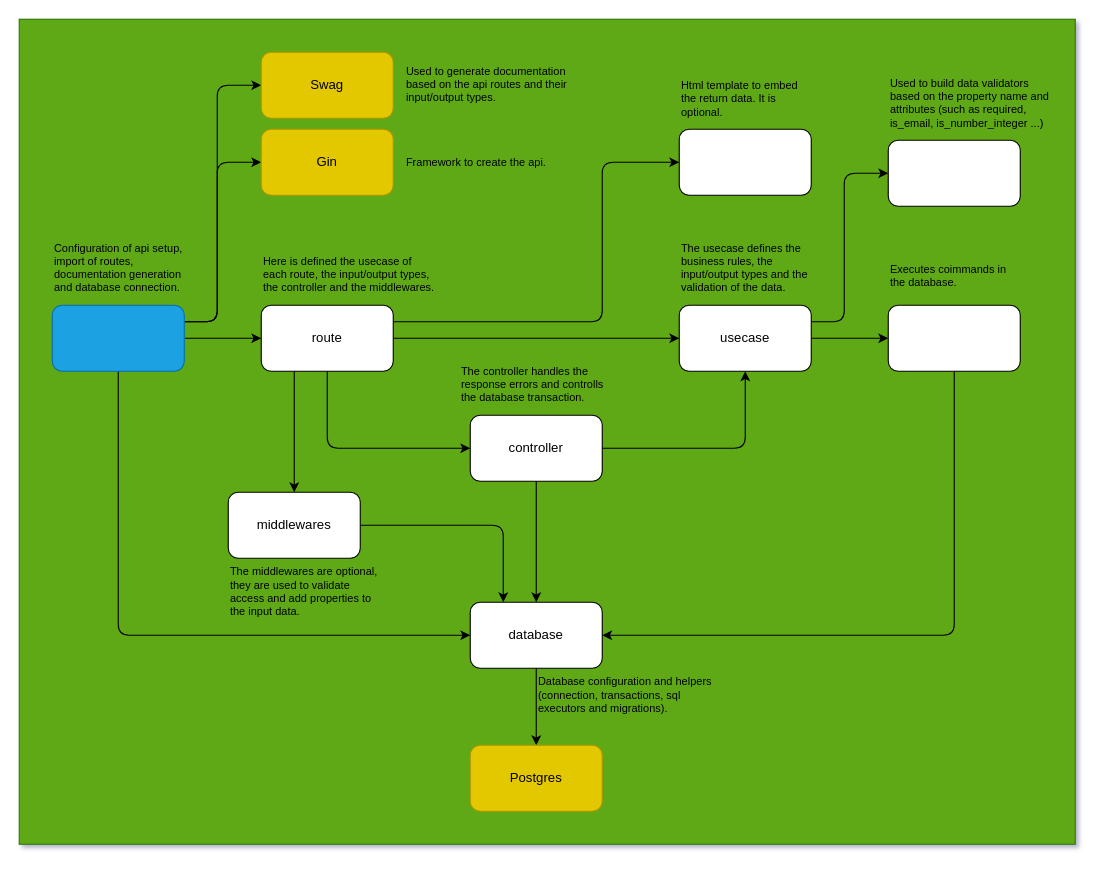
This 1101x870 diagram has some shape labels left out. The shapes that lost their labels are listed below. From the top down, each one's box as (x1, y1, x2, y2) in pixels, then its label:
(678, 128, 811, 195): template
(887, 139, 1020, 206): validator_builder
(51, 304, 184, 371): main
(887, 304, 1020, 371): repository
